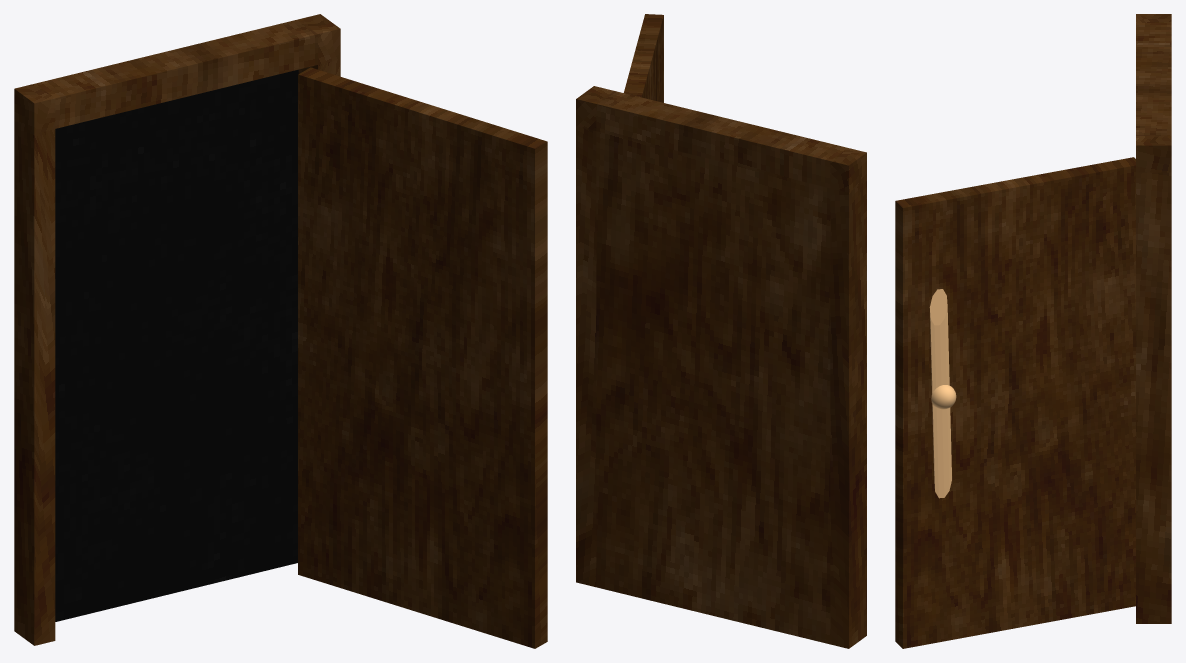
The model's file is opendoor.glb.
The picture shows the model from 3 angles, left to right: view 1: azimuth 30°, elevation 25°; view 2: azimuth 150°, elevation 25°; view 3: azimuth 270°, elevation 25°; orthographic projection. The views are drawn at different scales.
Visible parts, largest first — view 1: pCube1, pCube2; view 2: pCube1, pCube2; view 3: pCube2, pCube1, pCylinder1, pSphere1.
Boxes of the visible parts, box(x1,y1,x2,y2) form: pCube1: box(14, 14, 340, 645); pCube2: box(298, 67, 547, 648); pCube1: box(576, 86, 866, 648); pCube2: box(624, 14, 663, 102); pCube2: box(895, 157, 1135, 648); pCube1: box(1136, 14, 1171, 623); pCylinder1: box(929, 289, 951, 498); pSphere1: box(931, 385, 956, 409).
Bounding box in the file's own units: 1.48 × 1.98 × 1.03.
Materials: 5 (5 with a texture image).
